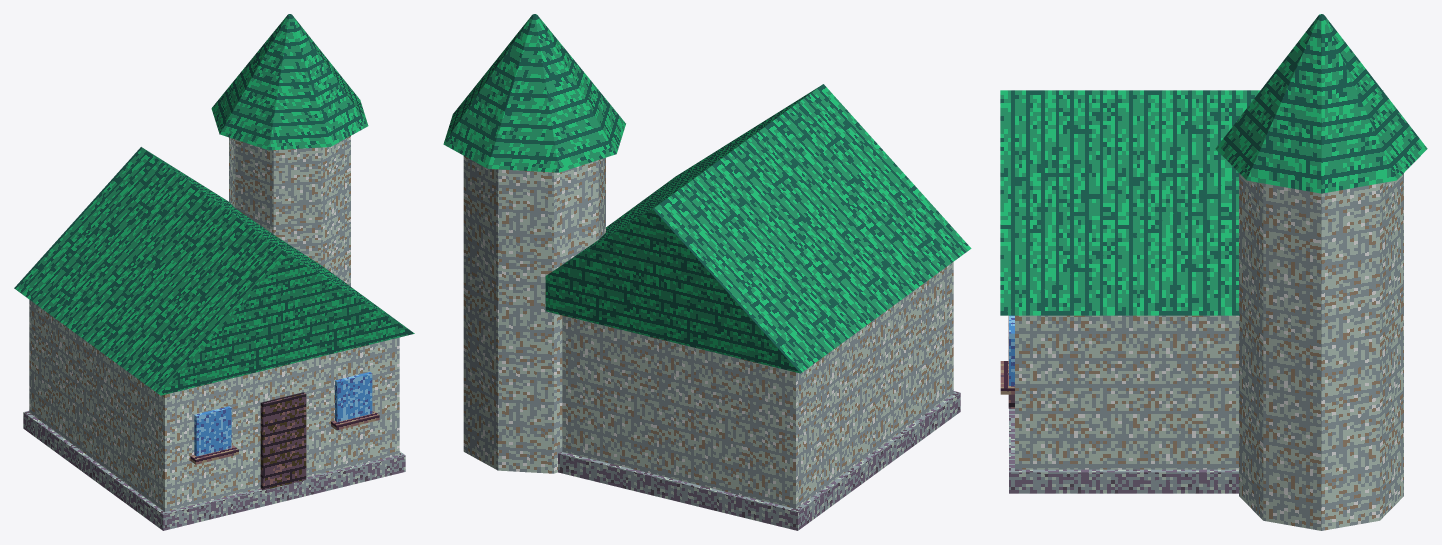
File: alquimia_selene.glb
3 renders of one model, left to right at view 1: azimuth 30°, elevation 25°; view 2: azimuth 150°, elevation 25°; view 3: azimuth 270°, elevation 25°, orthographic. The views are drawn at different scales.
Parts seen in each view (by area): view 1: alquimia_selene; view 2: alquimia_selene; view 3: alquimia_selene.
Boxes of the visible parts, x1,y1,x2,y2 form: alquimia_selene: (14, 14, 414, 530); alquimia_selene: (443, 14, 971, 530); alquimia_selene: (1000, 14, 1427, 530).
Bounding box in the file's own units: 8.25 × 9 × 7.25.
6 materials, 6 textured.
